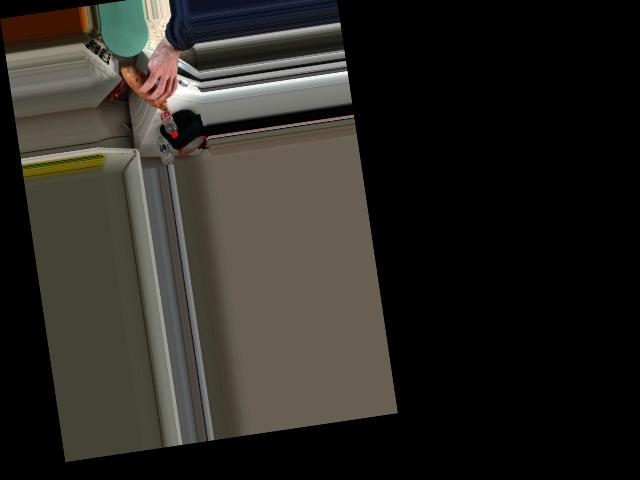sweet_potato: (123, 65, 179, 114)
